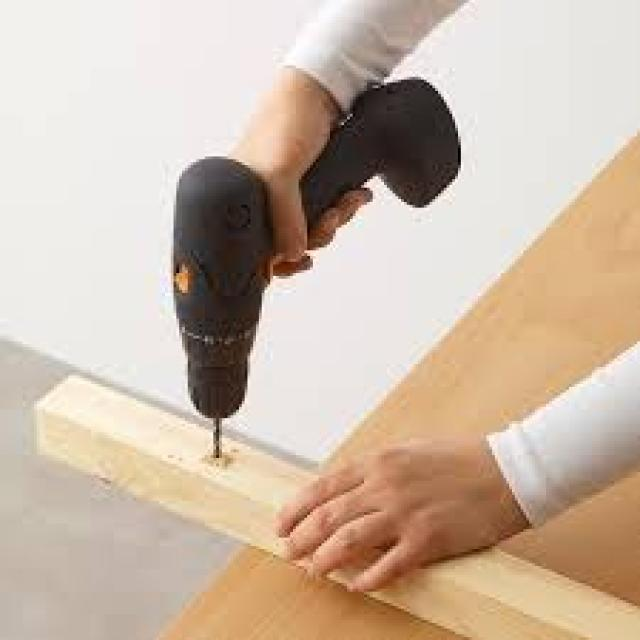driller: (174, 78, 468, 457)
